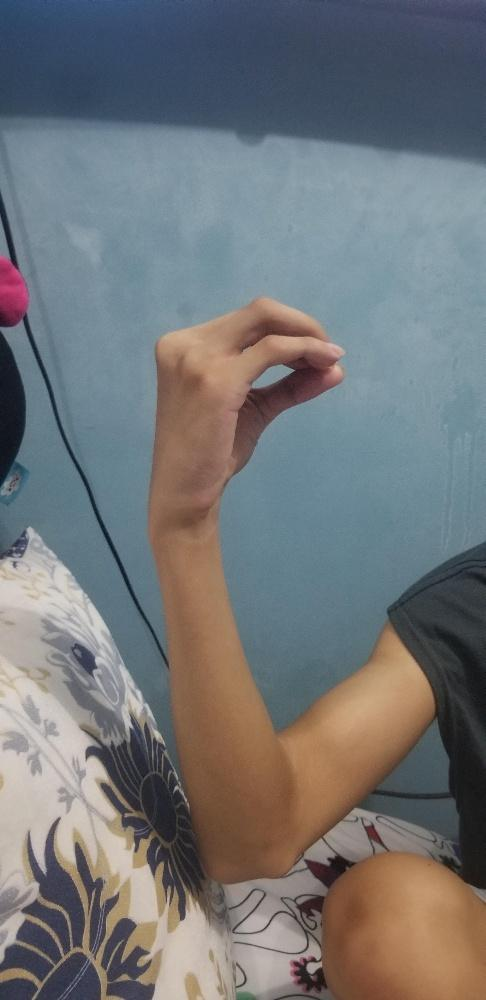o: (142, 291, 346, 533)
